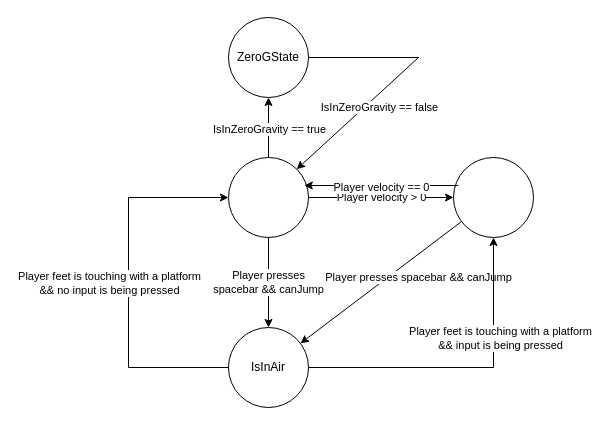
Some shapes in this 608 by 425 pixel diagram are drawn without their labels. Here are the shapes that lost their labels. From the top down, the centre of each, then its label:
the point at 268,197: IdleState
the point at 493,197: MovingState
